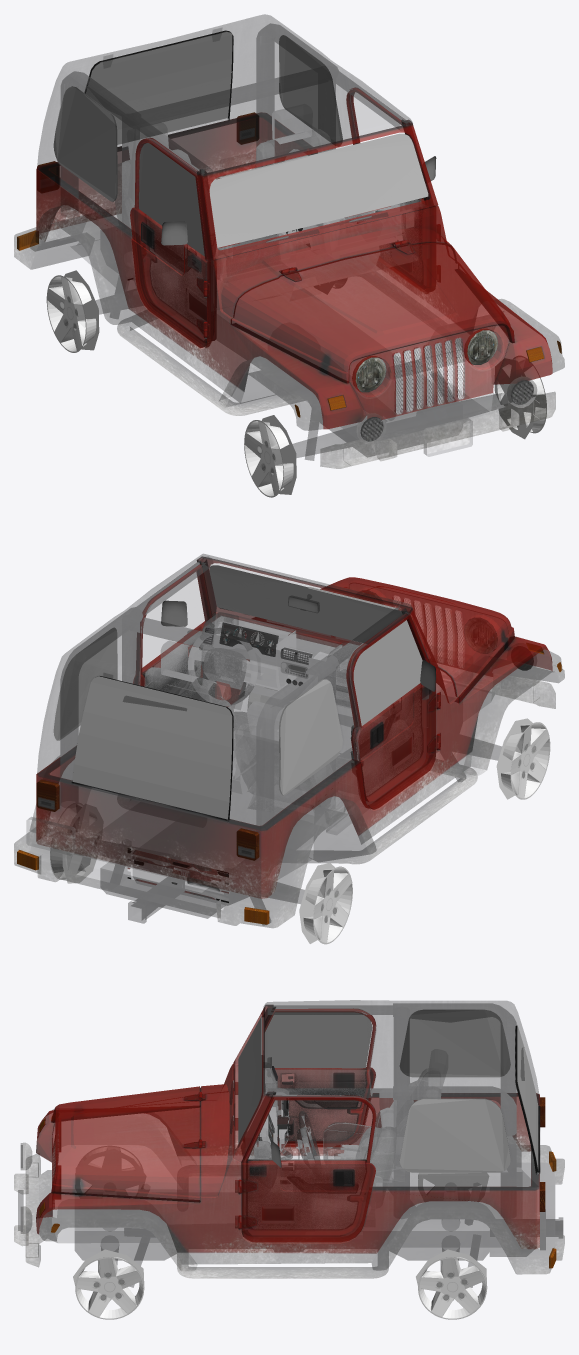
File: thar.glb
3 renders of one model, top to bottom at view 1: azimuth 30°, elevation 25°; view 2: azimuth 150°, elevation 25°; view 3: azimuth 270°, elevation 25°, orthographic. The views are drawn at different scales.
Parts seen in each view (by area): view 1: Thar; view 2: Thar; view 3: Thar.
Boxes of the visible parts, bbox=[...] form: Thar: bbox=[14, 14, 564, 497]; Thar: bbox=[14, 554, 564, 944]; Thar: bbox=[14, 1000, 564, 1319].
Size of the model in its own units: 1.88 by 1.79 by 3.66.
8 materials, 5 textured.
